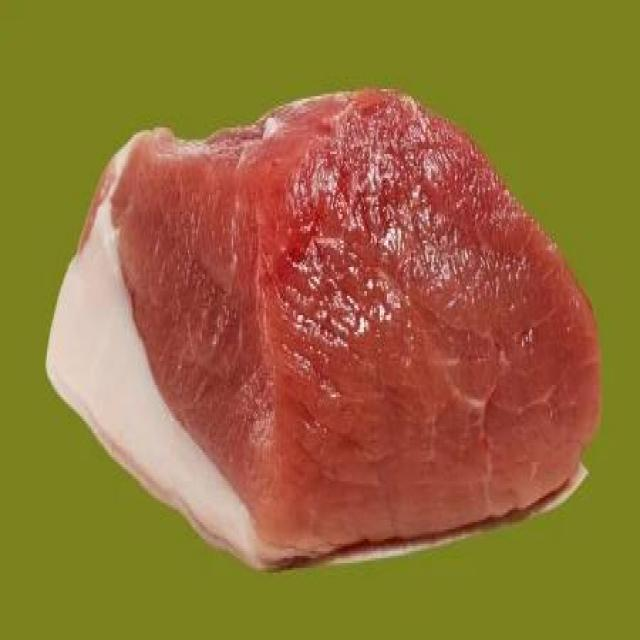pork: (52, 84, 606, 544)
